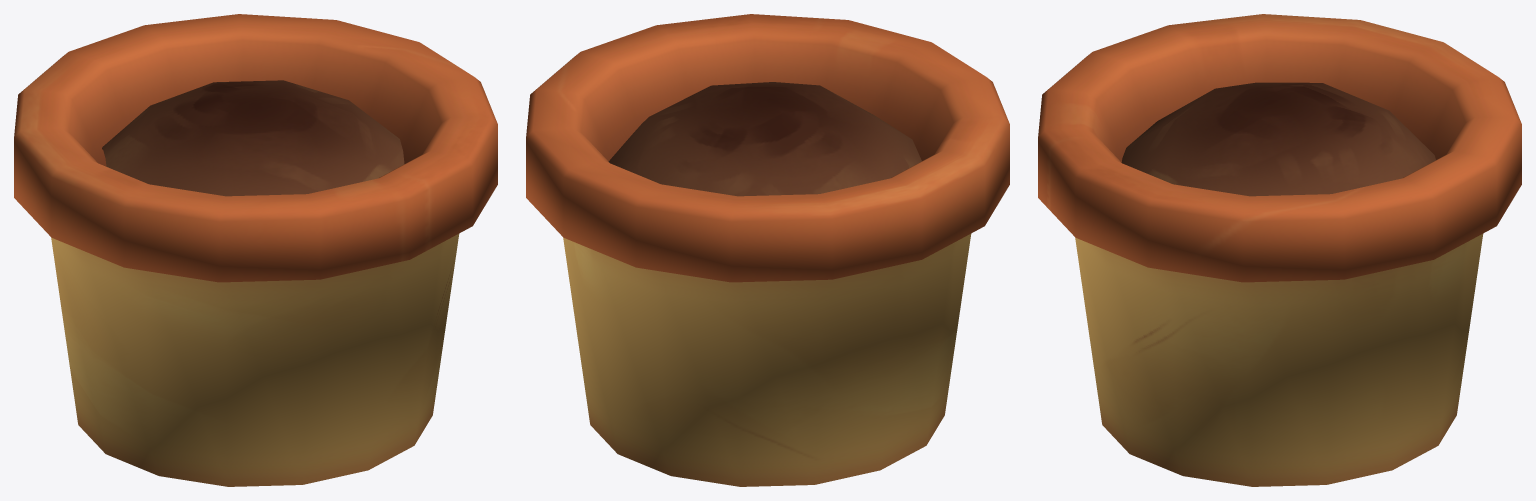
Rendered from Pot.fbx.
3 renders of one model, left to right at view 1: azimuth 30°, elevation 25°; view 2: azimuth 150°, elevation 25°; view 3: azimuth 270°, elevation 25°, orthographic.
Parts seen in each view (by area): view 1: Pot; view 2: Pot; view 3: Pot.
Part boxes in pixels (<box>): Pot: <box>14,14,497,486</box>; Pot: <box>526,14,1009,486</box>; Pot: <box>1038,14,1521,486</box>.
Size of the model in its own units: 6.75 by 4.77 by 6.75.
